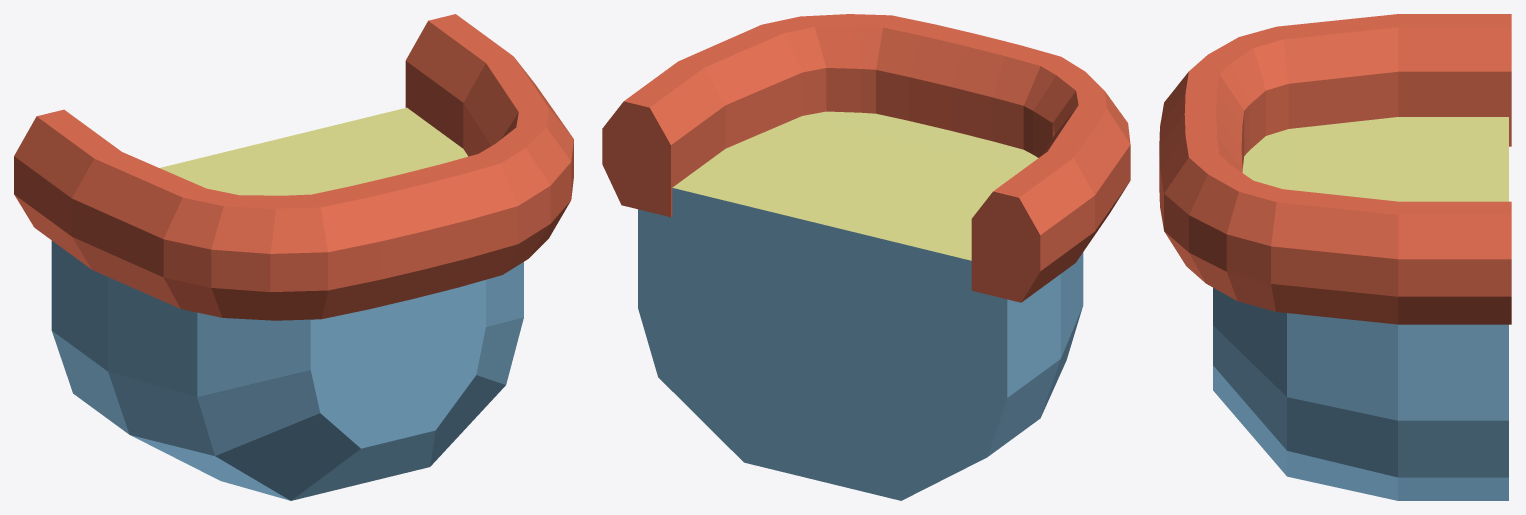
File: hull-stern.glb
3 renders of one model, left to right at view 1: azimuth 30°, elevation 25°; view 2: azimuth 150°, elevation 25°; view 3: azimuth 270°, elevation 25°, orthographic. The views are drawn at different scales.
Visible parts, largest first — view 1: hull-rail, stern-body, stern-floor; view 2: stern-body, hull-rail, stern-floor; view 3: hull-rail, stern-body, stern-floor.
Part boxes in pixels (box(x1,y1,x2,y2)): hull-rail: box(14, 14, 573, 320); stern-body: box(51, 240, 523, 500); stern-floor: box(160, 107, 467, 195); stern-body: box(638, 188, 1083, 500); hull-rail: box(602, 14, 1130, 302); stern-floor: box(672, 111, 1038, 260); hull-rail: box(1159, 14, 1511, 324); stern-body: box(1213, 287, 1508, 500); stern-floor: box(1242, 117, 1508, 201).
Size of the model in its own units: 7.11 by 5.17 by 4.76.
